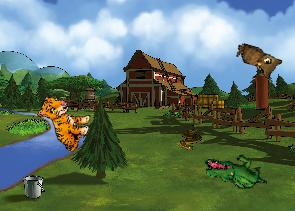crocodile: (203, 150, 267, 194)
owl: (231, 42, 283, 81)
tiger: (29, 92, 96, 154)
